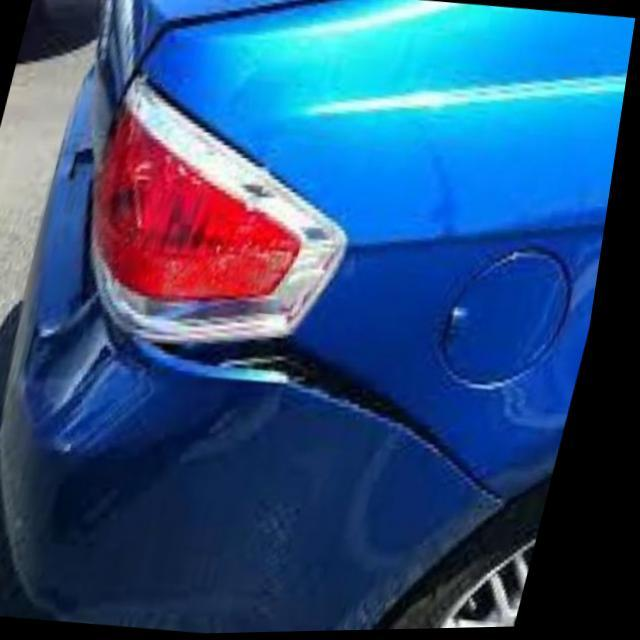dislocated part: (123, 318, 535, 509)
